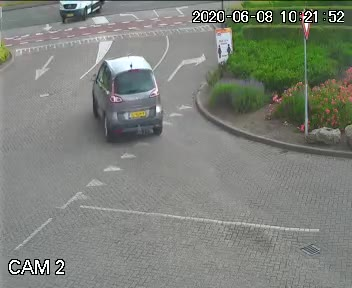car: (80, 45, 165, 156)
